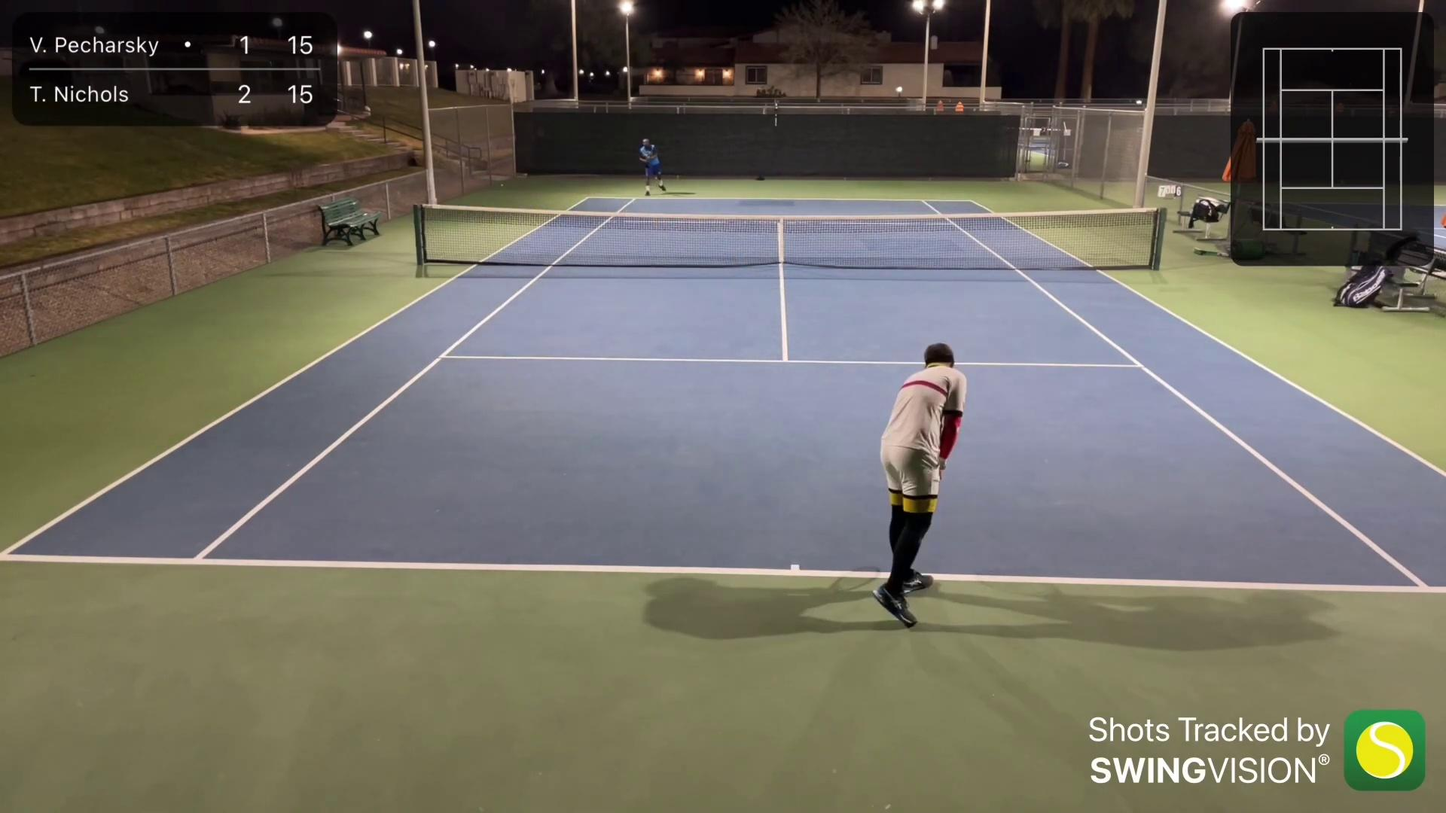ball: (496, 183, 505, 189)
